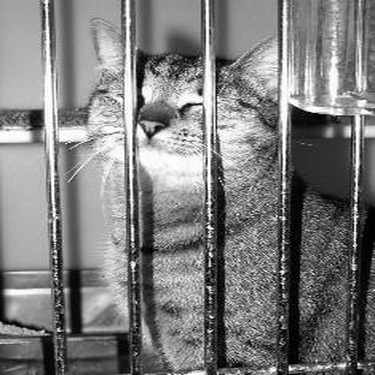cat: (85, 15, 372, 372)
